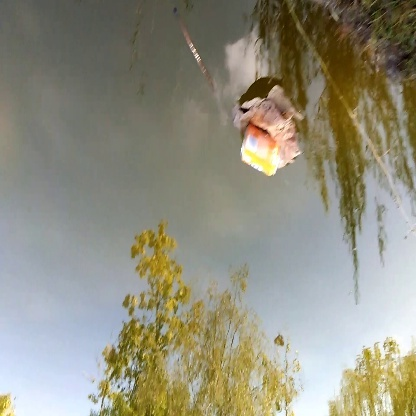bottle: (238, 122, 285, 179)
